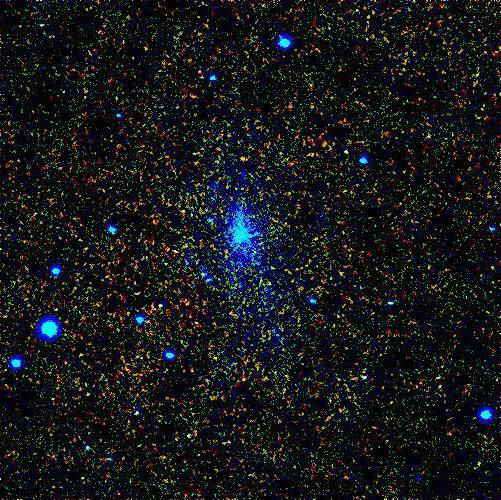star: (228, 145, 258, 175)
